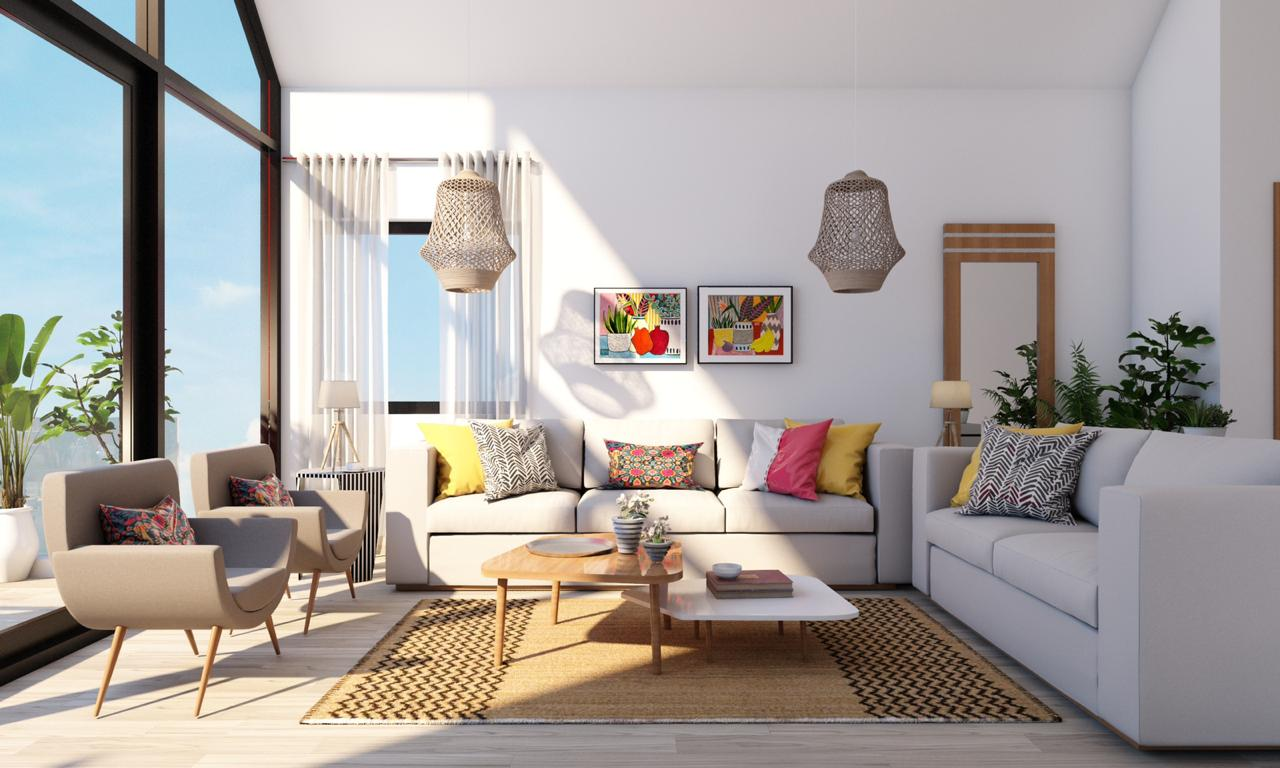coklat: (475, 535, 675, 654)
kuning: (426, 427, 484, 497), (823, 423, 880, 494)
pink: (771, 418, 829, 497)
putih: (1088, 440, 1277, 740), (680, 580, 858, 623), (317, 382, 360, 413), (930, 381, 972, 409)
